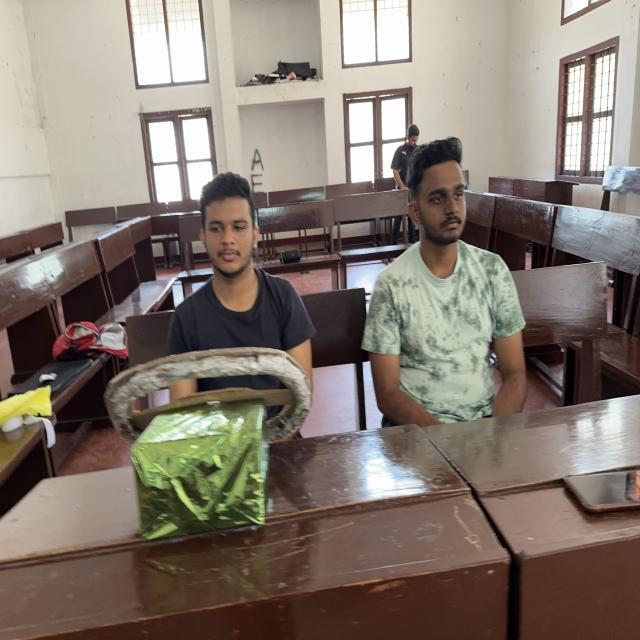Helmet: (364, 239, 528, 435), (164, 271, 321, 454)
